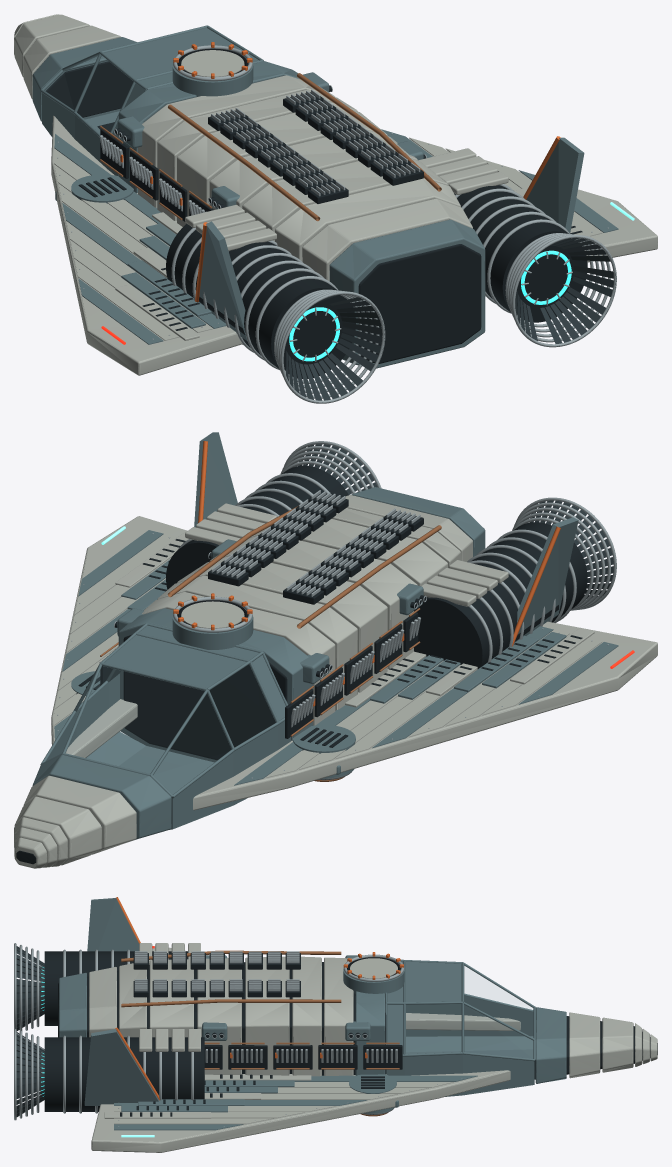
File: hero-ship-near.glb
3 renders of one model, top to bottom at view 1: azimuth 30°, elevation 25°; view 2: azimuth 150°, elevation 25°; view 3: azimuth 270°, elevation 25°, orthographic. The views are drawn at different scales.
Visible parts, largest first — view 1: hero-ship / near; view 2: hero-ship / near; view 3: hero-ship / near.
Boxes of the visible parts, x1,y1,x2,y2 form: hero-ship / near: [14, 14, 657, 403]; hero-ship / near: [14, 432, 657, 868]; hero-ship / near: [14, 897, 657, 1152].
Bounding box in the file's own units: 14 × 3.91 × 19.32.
